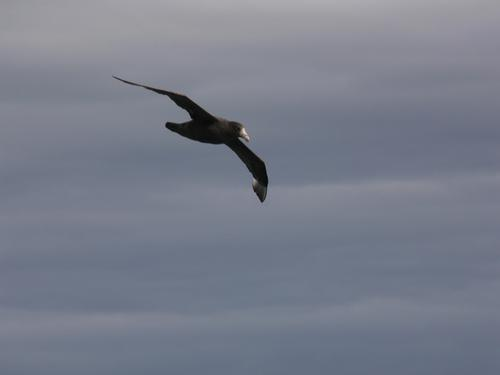003.Sooty_Albatross: (110, 74, 269, 204)
